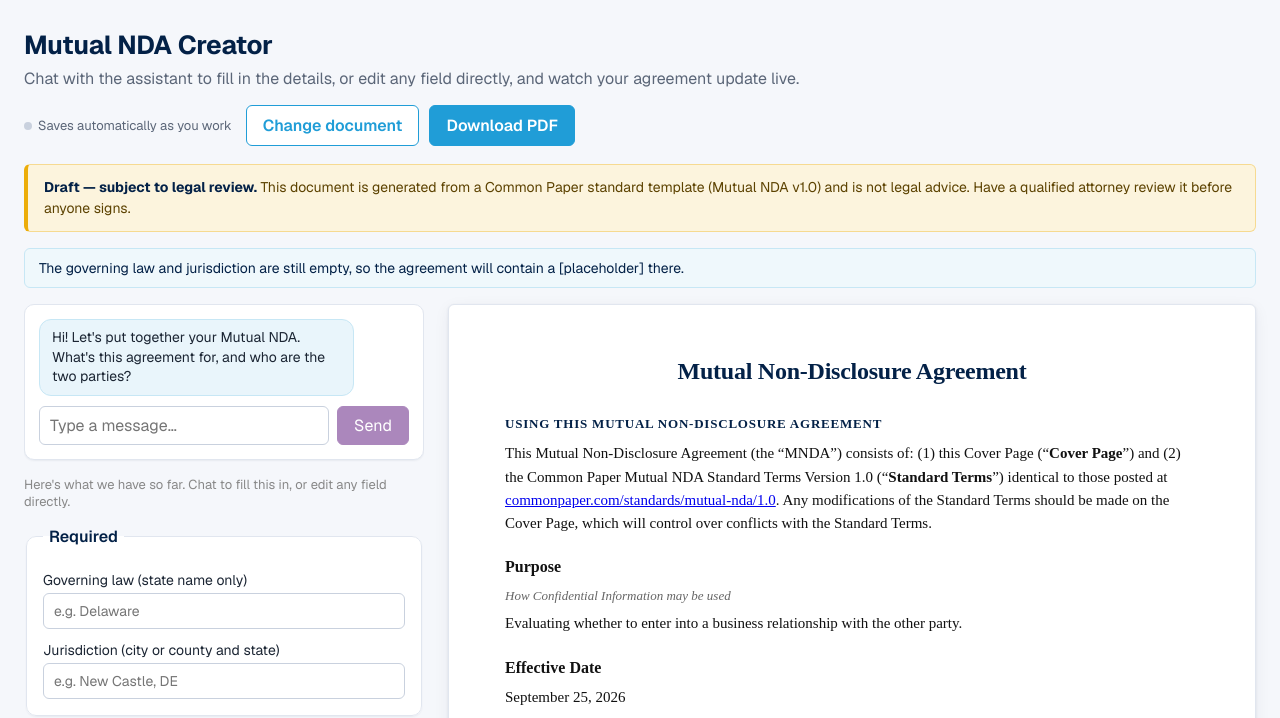
it: NdaCreator › AI chat drives the same state as manual edits › a chat-applied patch updates the live preview and clears the missing-field warning
Expected: the message shows "governing law and jurisdiction are still empty", [24,248,1256,288]
In the field labelled "message": {"x": 184, "y": 425} [39,406,329,445], type "Delaware, Dover DE"
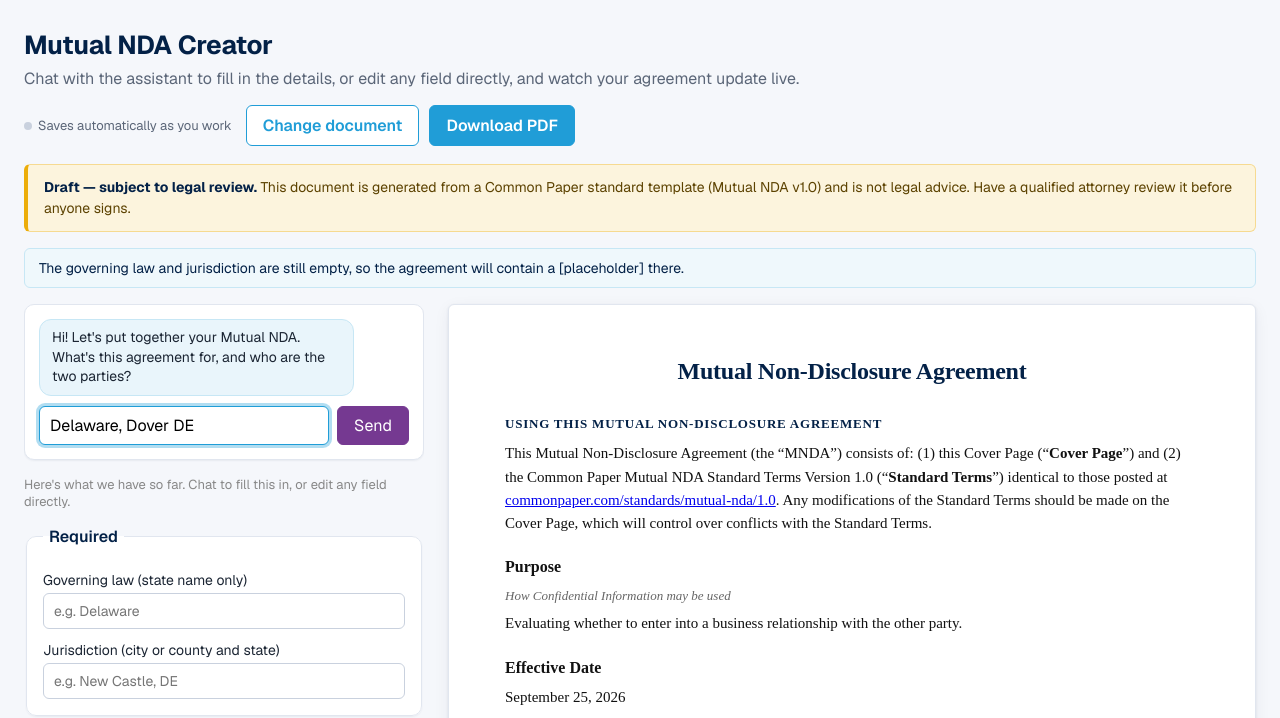
Click the button "Send": {"x": 373, "y": 425} [337,406,409,445]
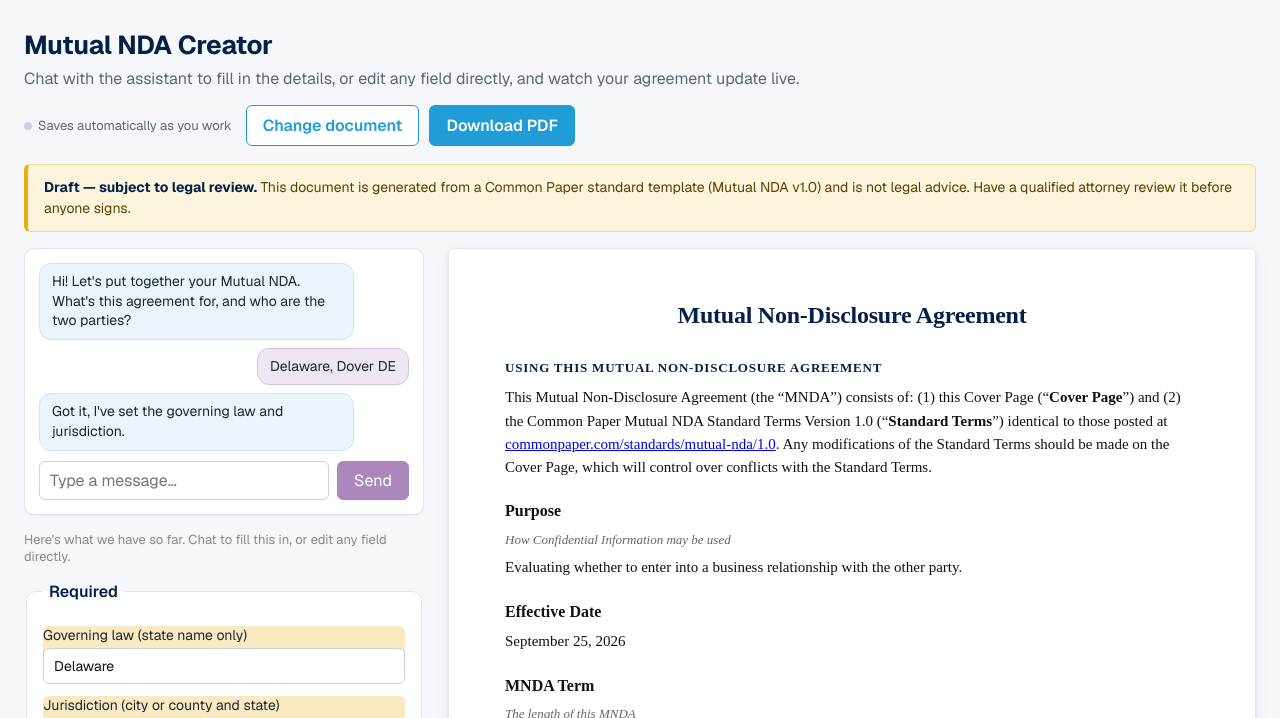
Expected: the message is gone
Expected: the field labelled "Governing law (state name only)" holds "Delaware", [43,648,405,684]
